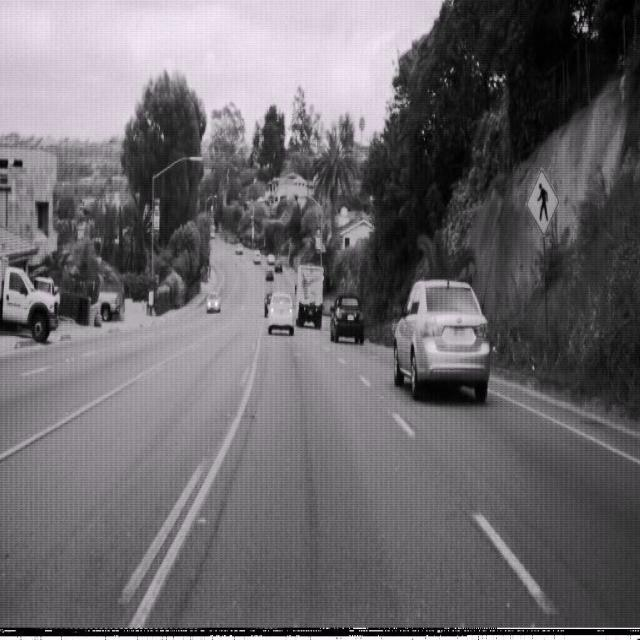pedestrianCrossing: (526, 168, 560, 237)
